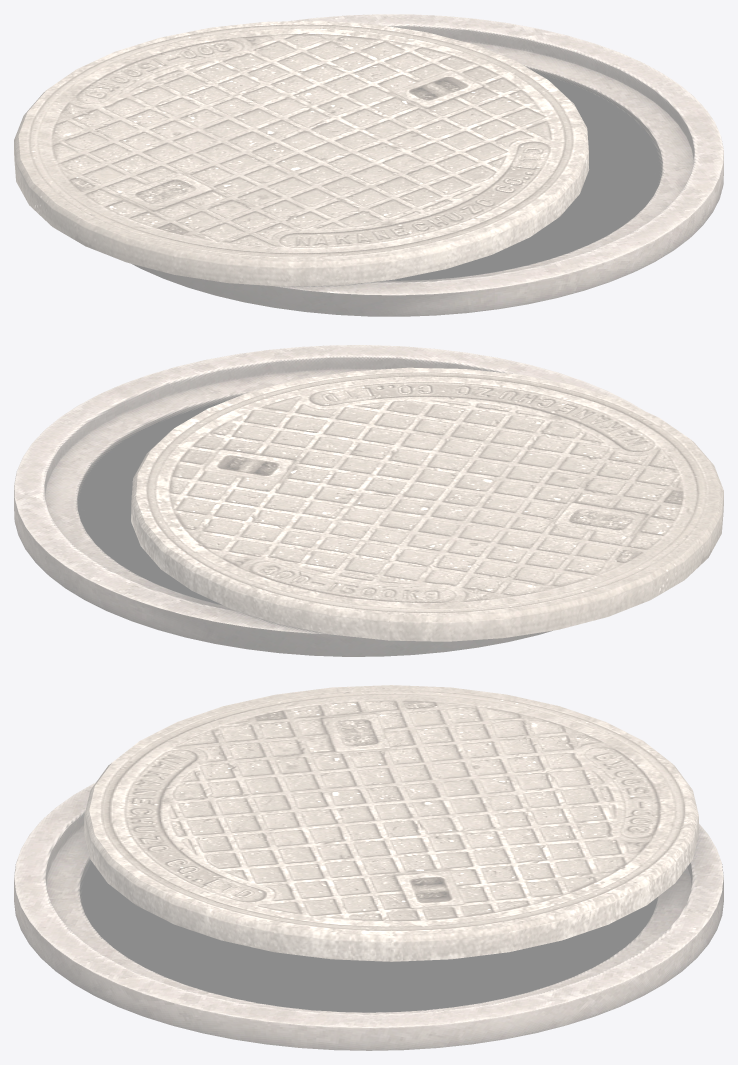
File: Manhole_cover_open.glb
3 views of the same model, one above another, from view 1: azimuth 30°, elevation 25°; view 2: azimuth 150°, elevation 25°; view 3: azimuth 270°, elevation 25° (orthographic). The views are drawn at different scales.
Visible parts, largest first — view 1: 井盖开; view 2: 井盖开; view 3: 井盖开.
Part boxes in pixels (x1,y1,x2,y2): 井盖开: [14, 14, 723, 316]; 井盖开: [14, 345, 723, 656]; 井盖开: [14, 685, 723, 1050].
Bounding box in the file's own units: 1.1 × 0.0823 × 1.03.
Materials: 1 (1 with a texture image).
